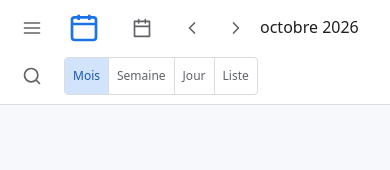
Test: AppHeader › recherche mobile › le bouton de recherche déplie le champ et lui donne le focus
This screenshot has width=390, height=170.
Click the button with class "c-app-header__search-toggle".
click(32, 76)  # box top-left (12, 56), bottom-right (52, 96)
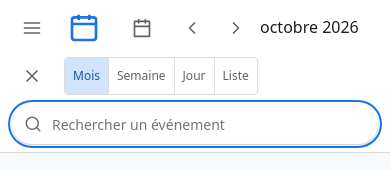
expect the button with class "c-app-header__search-toggle" is expanded: met, box top-left (12, 56), bottom-right (52, 96)
